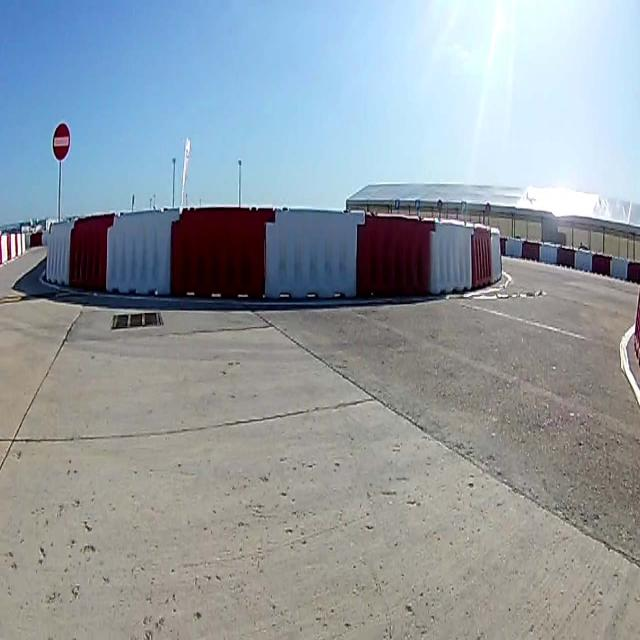girisyok: (52, 123, 71, 160)
